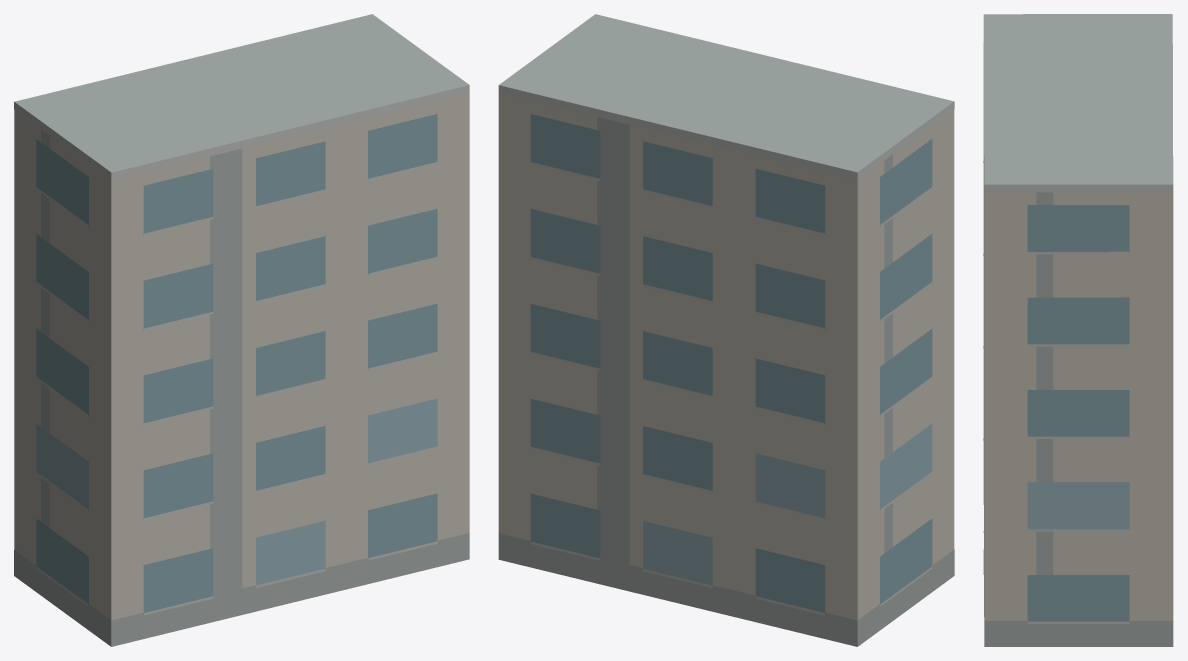
File: survey-upis-32728802.glb
3 renders of one model, left to right at view 1: azimuth 30°, elevation 25°; view 2: azimuth 150°, elevation 25°; view 3: azimuth 270°, elevation 25°, orthographic. The views are drawn at different scales.
Parts seen in each view (by area): view 1: survey-upis-32728802.tmp; view 2: survey-upis-32728802.tmp; view 3: survey-upis-32728802.tmp.
Part boxes in pixels (left/top/right/bottom): survey-upis-32728802.tmp: left=14, top=14, right=469, bottom=646; survey-upis-32728802.tmp: left=498, top=14, right=954, bottom=646; survey-upis-32728802.tmp: left=983, top=14, right=1173, bottom=646.
Bounding box in the file's own units: 11.66 × 14.7 × 5.49.
